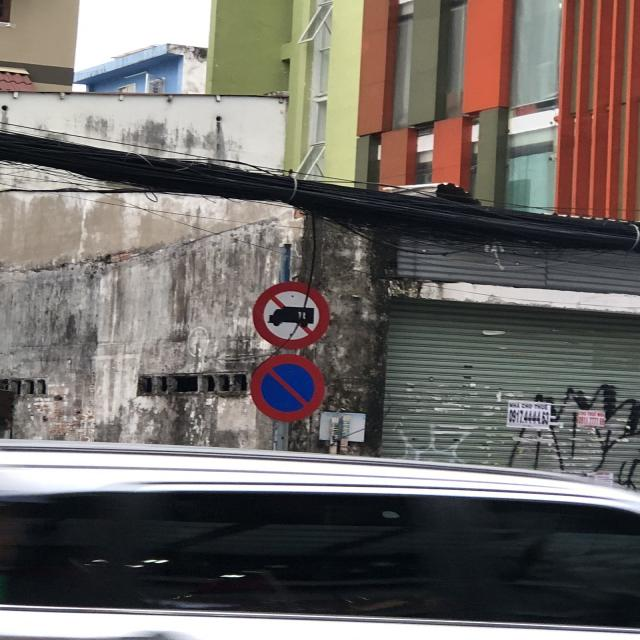Bien bao cam do xe: (240, 345, 342, 428)
Bien bao cam xe oto tai: (250, 269, 328, 347)
